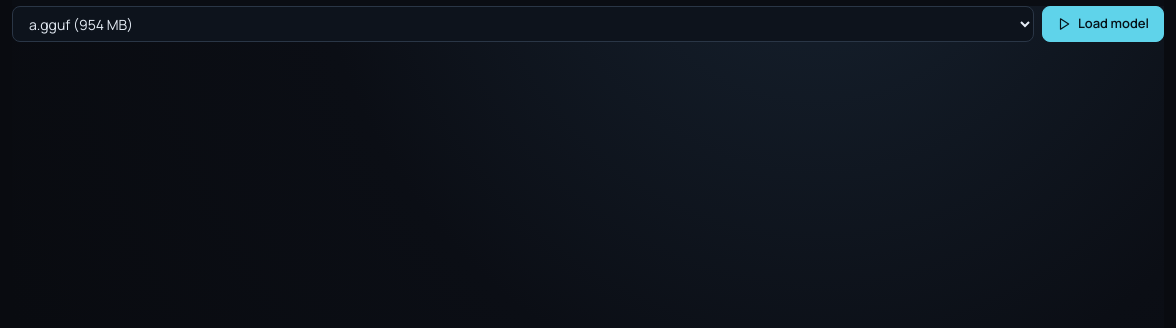
QuickLoadModels › shows why a load was refused and does not remember that model
This screenshot has width=1176, height=328.
Click the button "Load model": (1103, 24) [1042,6,1164,42]
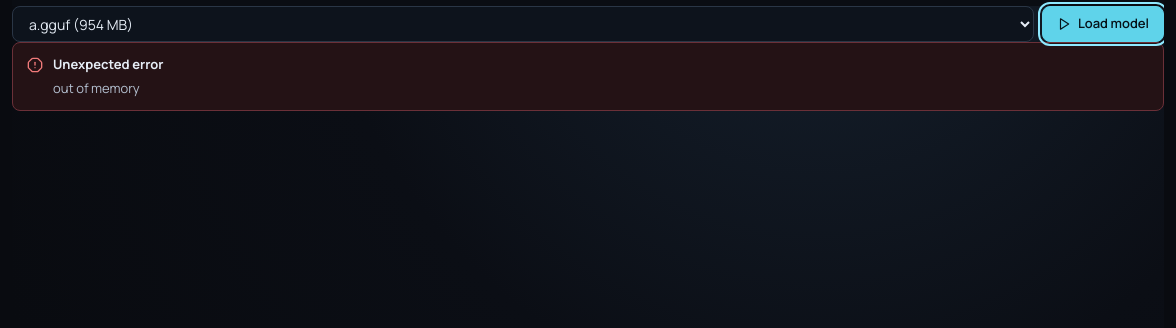
Now the text "out of memory" is shown, box [53,78,140,96]
